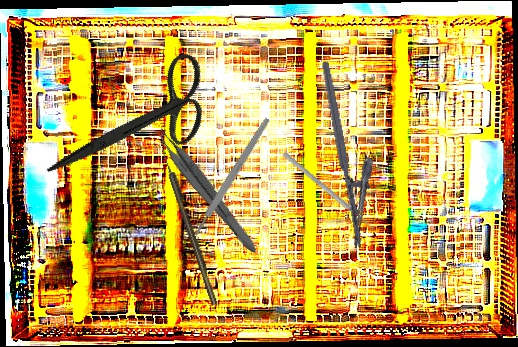Hook Surgical: (161, 151, 219, 307)
Iris Scissors: (46, 20, 228, 225)
Needle Holder: (320, 56, 388, 249)
Pusher: (281, 150, 377, 233)
Scalpel Handle: (191, 116, 272, 238)
Tissue Forceps: (148, 121, 267, 257)
